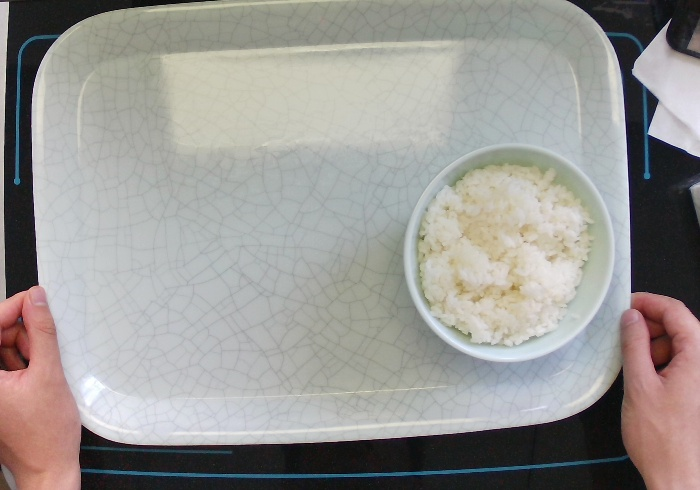JYsf-Fan_Wan: (402, 141, 620, 365)
